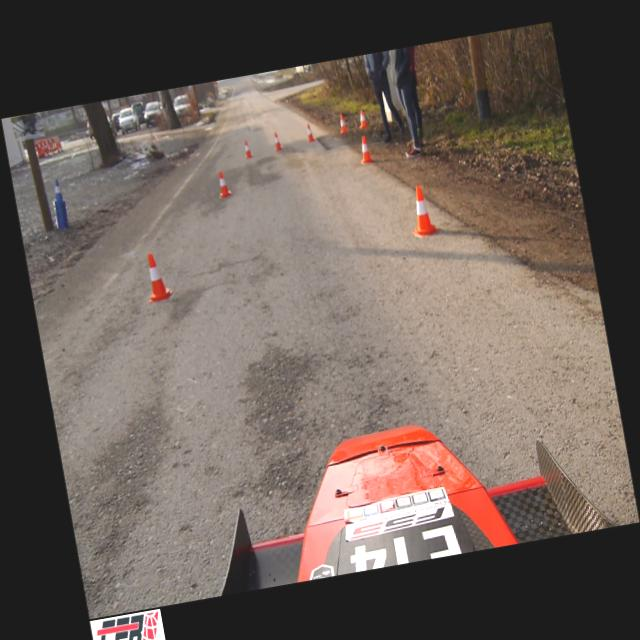blue_cone: (49, 177, 63, 201)
orange_cone: (404, 184, 440, 238), (140, 250, 174, 302), (215, 170, 232, 198), (357, 134, 372, 164), (337, 112, 348, 134), (304, 122, 316, 142), (356, 108, 367, 128), (272, 130, 282, 150), (242, 140, 252, 158)
